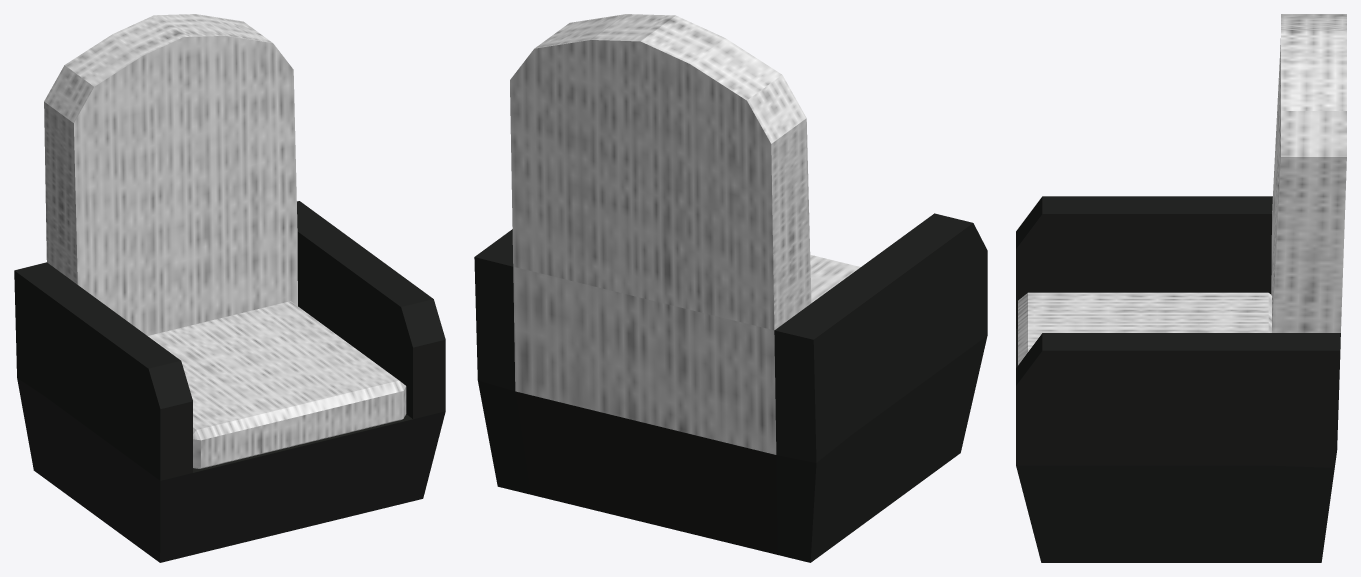
File: armchair cust.fbx
The picture shows the model from 3 angles, left to right: view 1: azimuth 30°, elevation 25°; view 2: azimuth 150°, elevation 25°; view 3: azimuth 270°, elevation 25°; orthographic projection. The views are drawn at different scales.
Visible parts, largest first — view 1: Armchair; view 2: Armchair; view 3: Armchair.
Part boxes in pixels (<box>): Armchair: <box>14,14,445,562</box>; Armchair: <box>474,14,987,562</box>; Armchair: <box>1016,14,1346,562</box>.
Bounding box in the file's own units: 98.74 × 137 × 89.38.
2 materials, 1 textured.
